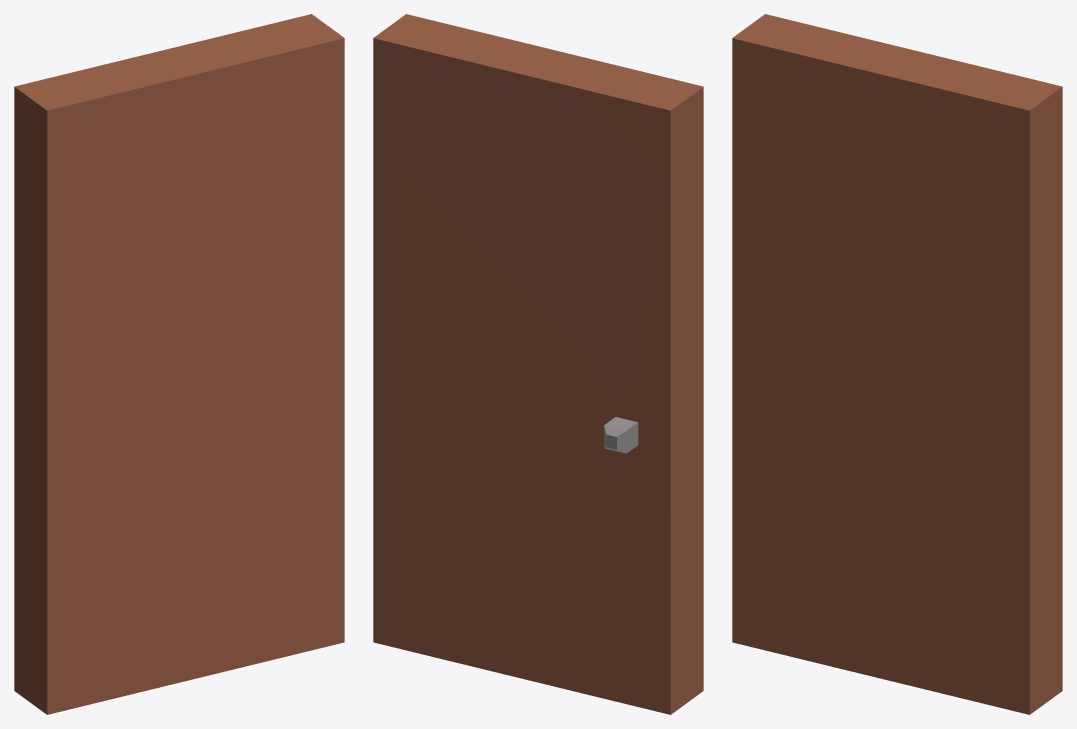
File: Puertas.fbx
3 views of the same model, side by side, from view 1: azimuth 30°, elevation 25°; view 2: azimuth 150°, elevation 25°; view 3: azimuth 330°, elevation 25° (orthographic).
Visible parts, largest first — view 1: Puertas(Mapeada)(textur.); view 2: Puertas(Mapeada)(textur.); view 3: Puertas(Mapeada)(textur.).
Part boxes in pixels (x1,y1,x2,y2): Puertas(Mapeada)(textur.): (14, 14, 344, 714); Puertas(Mapeada)(textur.): (373, 14, 703, 714); Puertas(Mapeada)(textur.): (732, 14, 1062, 714).
Bounding box in the file's own units: 458 × 888 × 128.
